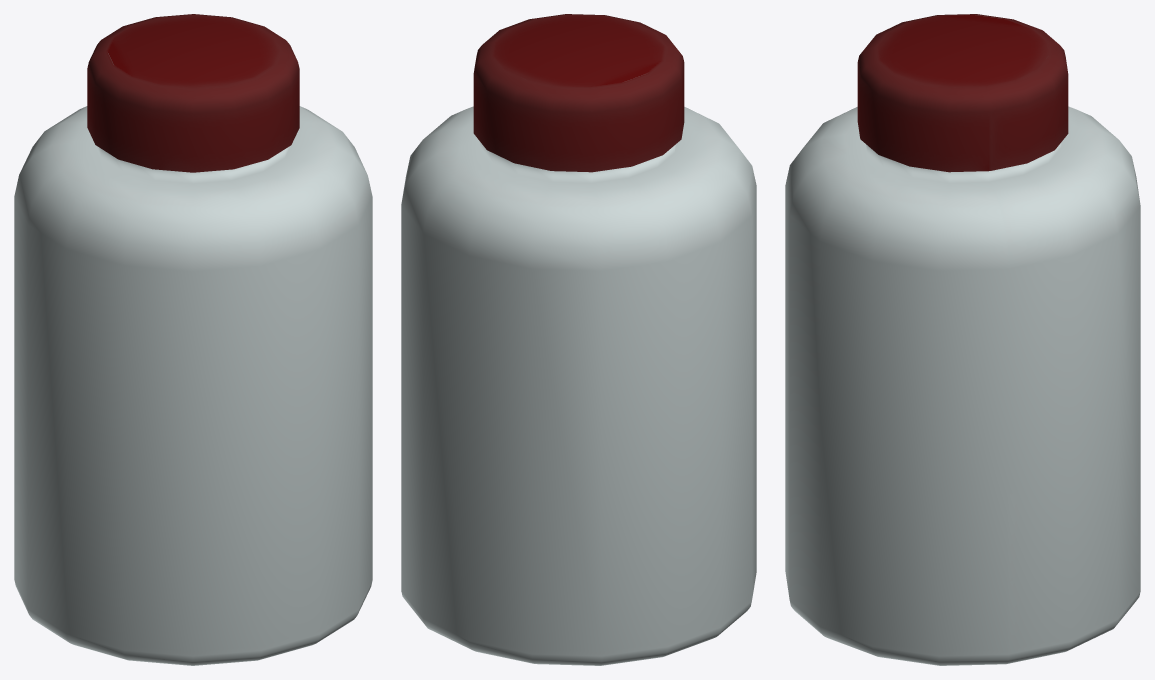
The model's file is PillBottleB.fbx.
The picture shows the model from 3 angles, left to right: view 1: azimuth 30°, elevation 25°; view 2: azimuth 150°, elevation 25°; view 3: azimuth 270°, elevation 25°; orthographic projection.
Visible parts, largest first — view 1: PillBottleB; view 2: PillBottleB; view 3: PillBottleB.
Boxes of the visible parts, x1,y1,x2,y2 form: PillBottleB: [14, 14, 372, 665]; PillBottleB: [401, 14, 756, 665]; PillBottleB: [785, 14, 1140, 665].
Bounding box in the file's own units: 7.25 × 12.28 × 7.25.
